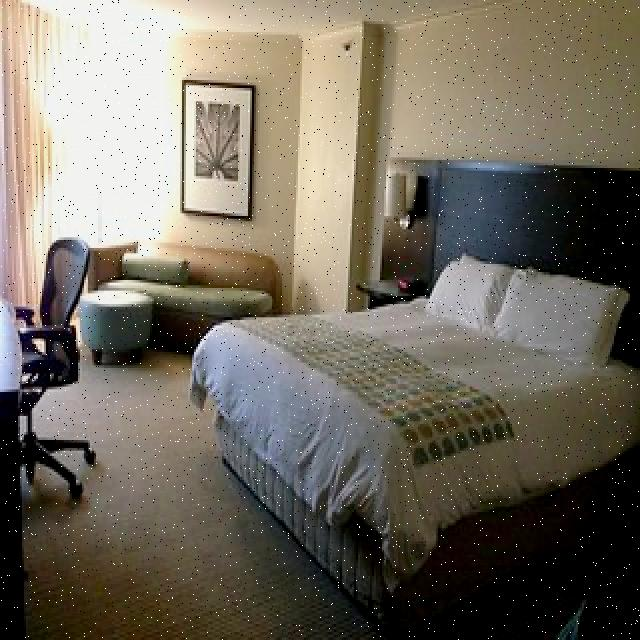bed: (223, 260, 639, 554)
